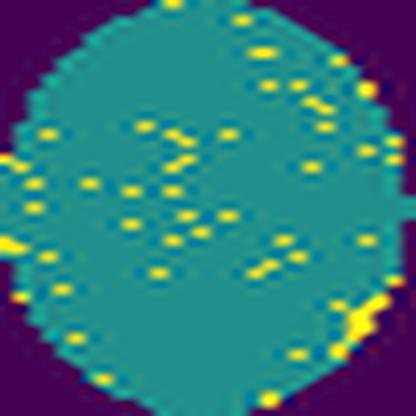Edge-Loc: (327, 289, 393, 346)
